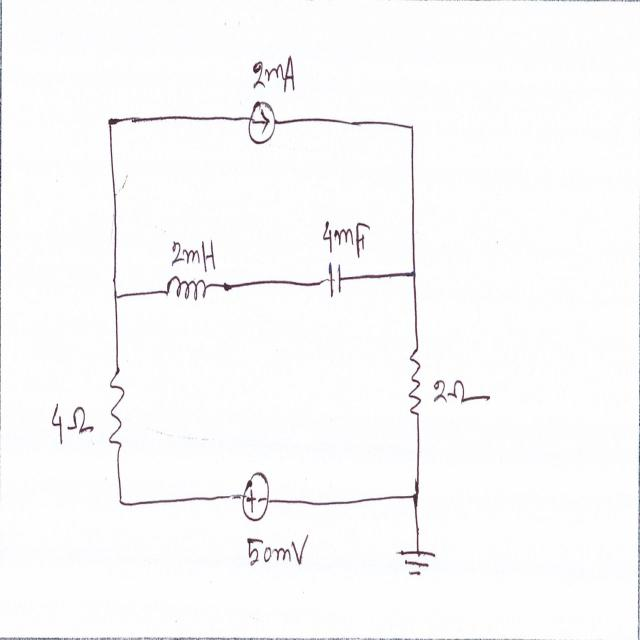capacitor: (327, 255, 344, 302)
current_source: (247, 94, 280, 148)
ground: (397, 534, 436, 578)
inductor: (165, 271, 218, 311)
resistor: (107, 364, 127, 452), (405, 341, 425, 424)
voltage_source: (237, 468, 271, 526)
